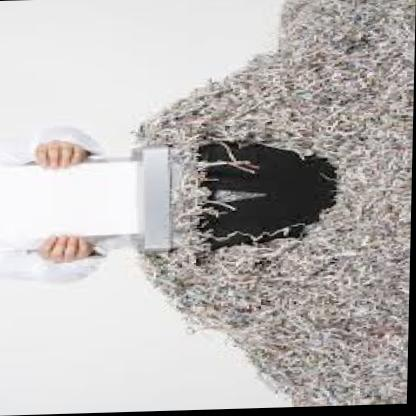Paper: (66, 0, 416, 414)
